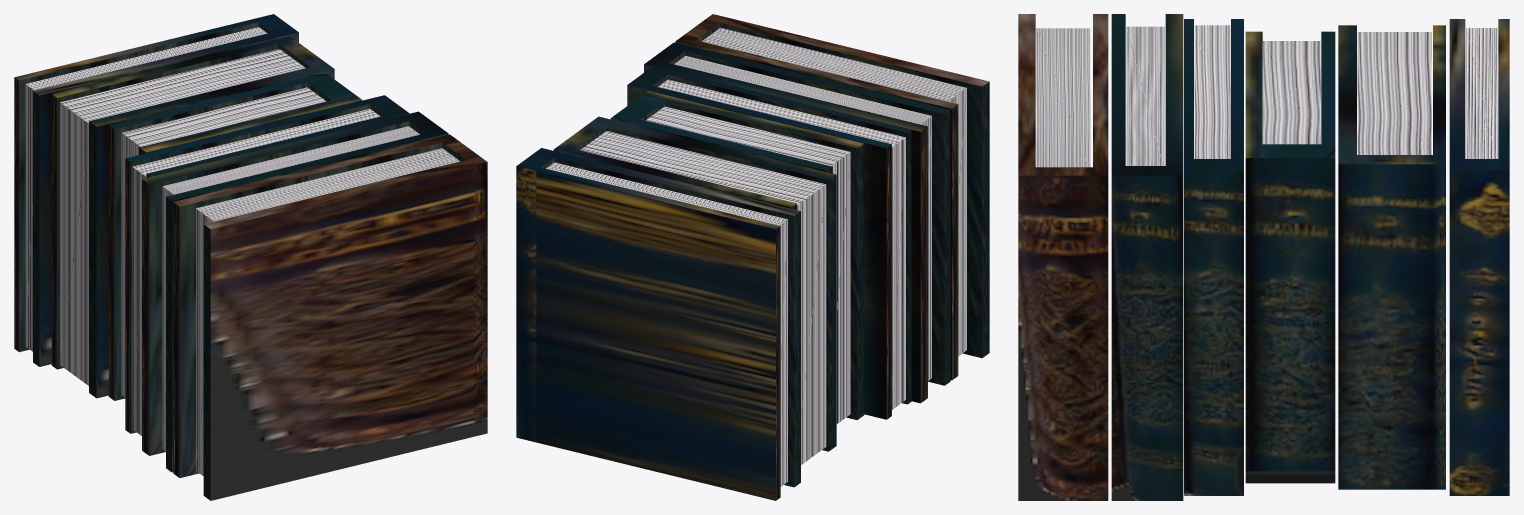
File: Libros6.obj
3 renders of one model, left to right at view 1: azimuth 30°, elevation 25°; view 2: azimuth 150°, elevation 25°; view 3: azimuth 270°, elevation 25°, orthographic. The views are drawn at different scales.
Visible parts, largest first — view 1: pCube1, pCube2, pCube11, pCube6, pCube5, pCube4, pCube7, pCube3, pCube9, pCube10, pCube12, pCube8; view 2: pCube6, pCube2, pCube1, pCube3, pCube11, pCube4, pCube5, pCube10, pCube7, pCube9, pCube12, pCube8; view 3: pCube5, pCube1, pCube4, pCube2, pCube6, pCube3, pCube11, pCube7, pCube10, pCube8, pCube9, pCube12.
Boxes of the visible parts, <box> form: pCube1: <box>173,134,487,500</box>; pCube2: <box>142,111,448,472</box>; pCube11: <box>60,49,305,385</box>; pCube6: <box>14,14,298,366</box>; pCube5: <box>51,36,334,398</box>; pCube4: <box>108,72,362,400</box>; pCube7: <box>196,148,459,475</box>; pCube3: <box>125,95,409,433</box>; pCube9: <box>132,109,380,435</box>; pCube10: <box>121,87,326,397</box>; pCube12: <box>25,27,267,351</box>; pCube8: <box>162,126,419,450</box>; pCube6: <box>516,148,800,500</box>; pCube2: <box>644,42,950,403</box>; pCube1: <box>675,14,989,380</box>; pCube3: <box>627,66,911,419</box>; pCube11: <box>580,131,826,464</box>; pCube4: <box>610,91,864,420</box>; pCube5: <box>553,116,836,451</box>; pCube10: <box>645,106,850,423</box>; pCube7: <box>702,27,966,356</box>; pCube9: <box>658,79,905,409</box>; pCube12: <box>546,162,787,486</box>; pCube8: <box>674,56,931,380</box>; pCube5: <box>1338,25,1445,489</box>; pCube1: <box>1018,14,1108,500</box>; pCube4: <box>1245,31,1335,483</box>; pCube2: <box>1111,14,1183,500</box>; pCube6: <box>1449,19,1509,495</box>; pCube3: <box>1184,19,1243,495</box>; pCube11: <box>1357,32,1431,154</box>; pCube7: <box>1036,28,1090,167</box>; pCube10: <box>1263,41,1320,144</box>; pCube8: <box>1126,26,1164,165</box>; pCube9: <box>1194,25,1230,158</box>; pCube12: <box>1466,28,1497,158</box>.
Bounding box in the file's own units: 0.32 × 0.3 × 0.4105.
Materials: 2 (2 with a texture image).
